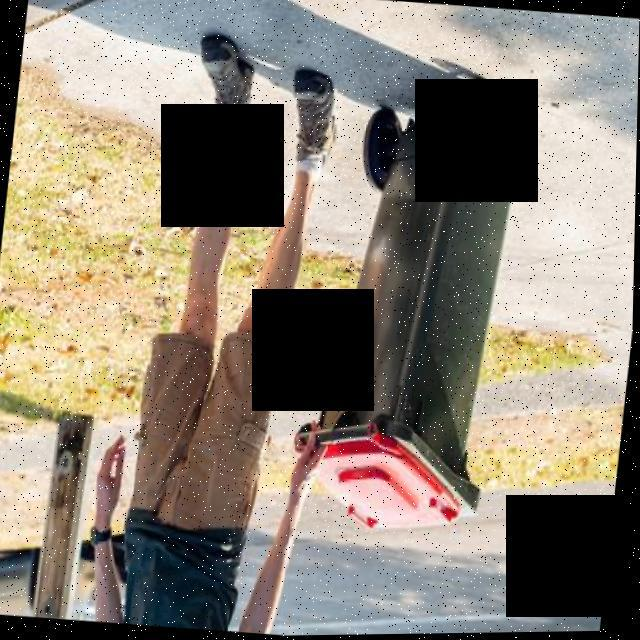bin: (282, 54, 538, 553)
